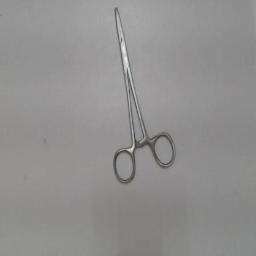Mayo Needle Holder: (108, 2, 180, 188)
